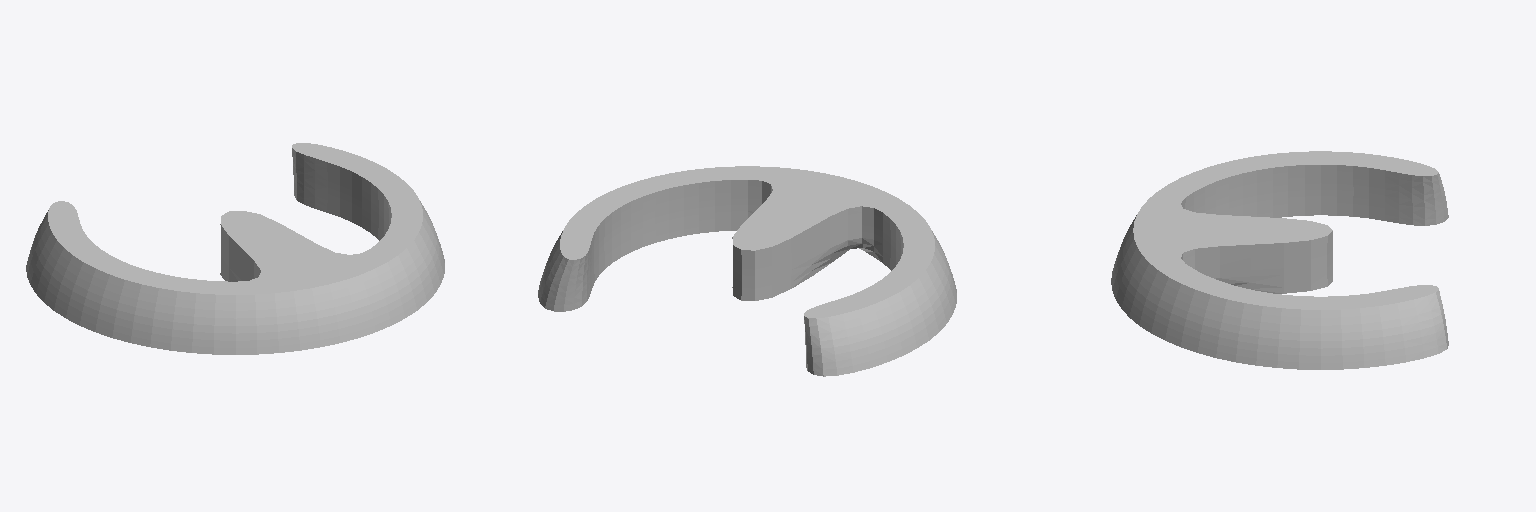
File: Mat_Stand.obj
3 views of the same model, side by side, from view 1: azimuth 30°, elevation 25°; view 2: azimuth 150°, elevation 25°; view 3: azimuth 270°, elevation 25° (orthographic).
Visible parts, largest first — view 1: Mat_Stand_Torus.002; view 2: Mat_Stand_Torus.002; view 3: Mat_Stand_Torus.002.
Boxes of the visible parts, x1,y1,x2,y2 form: Mat_Stand_Torus.002: [26, 143, 444, 354]; Mat_Stand_Torus.002: [538, 166, 956, 376]; Mat_Stand_Torus.002: [1111, 151, 1448, 369].
Bounding box in the file's own units: 23.74 × 3.17 × 19.1.